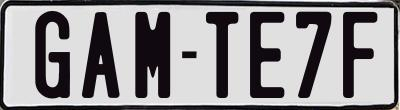7: (295, 10, 335, 101)
A: (79, 12, 118, 101)
E: (250, 12, 287, 100)
F: (342, 9, 381, 101)
G: (34, 8, 74, 102)
M: (132, 10, 170, 102)
T: (206, 11, 244, 100)
